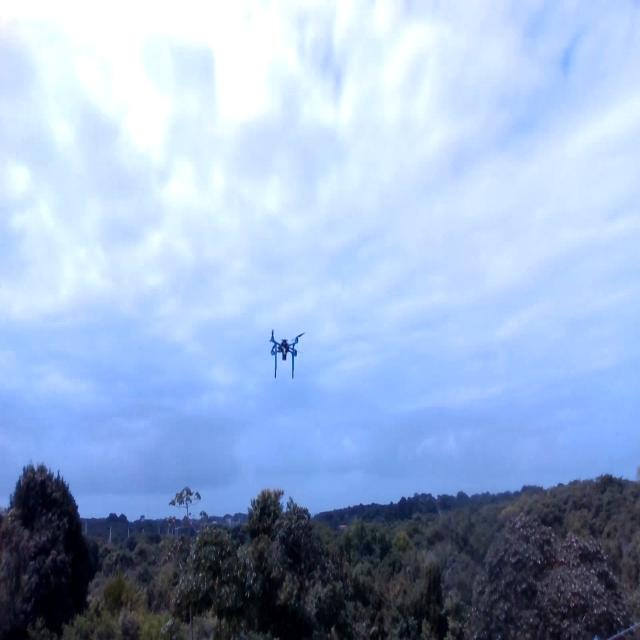-uav-: (261, 316, 309, 388)
